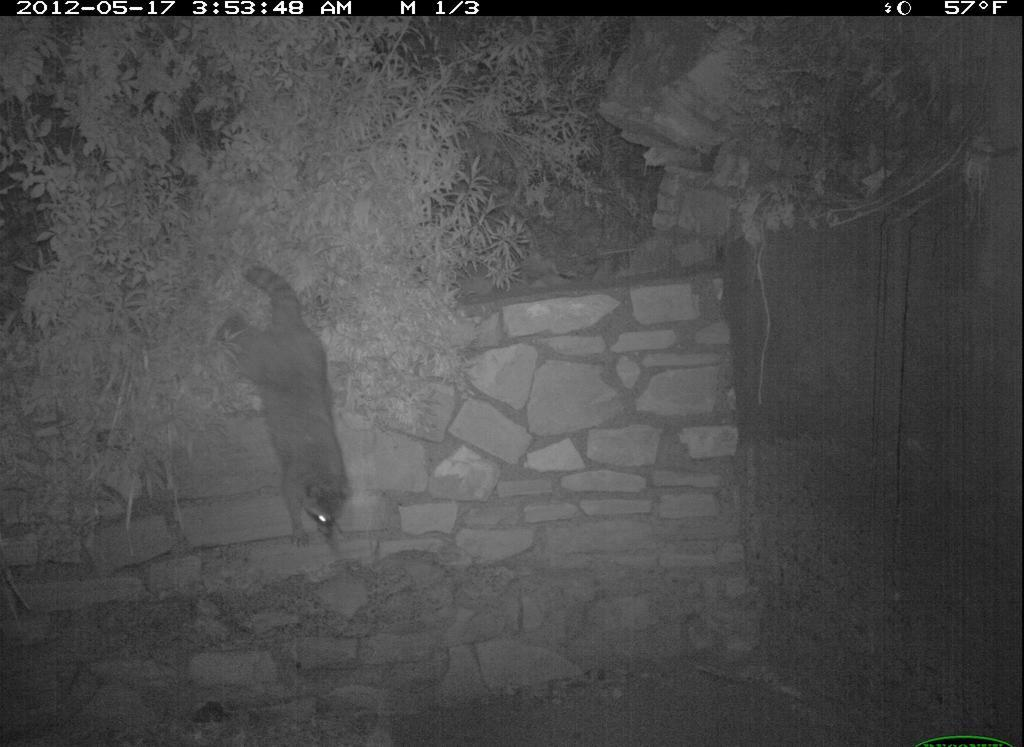raccoon: (190, 222, 369, 568)
